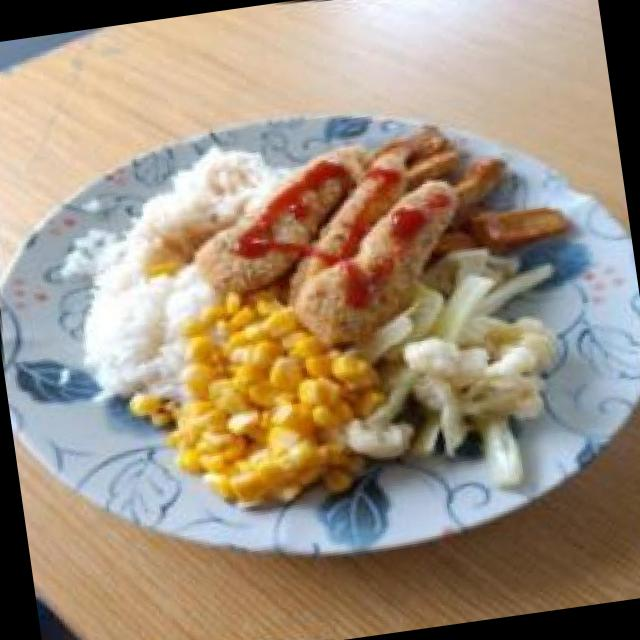rice: (42, 124, 314, 413)
